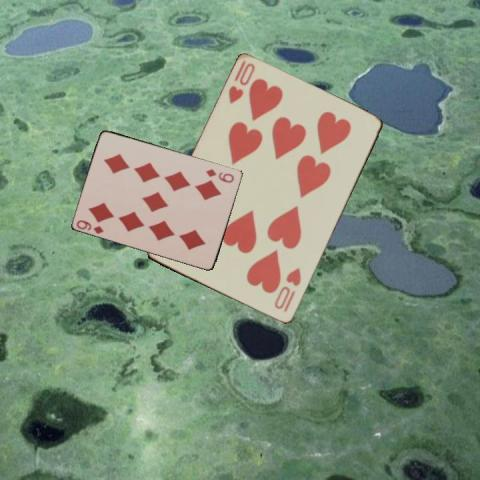10h: (272, 265, 304, 314), (225, 57, 257, 106)
9d: (203, 165, 236, 184), (74, 216, 106, 234)
